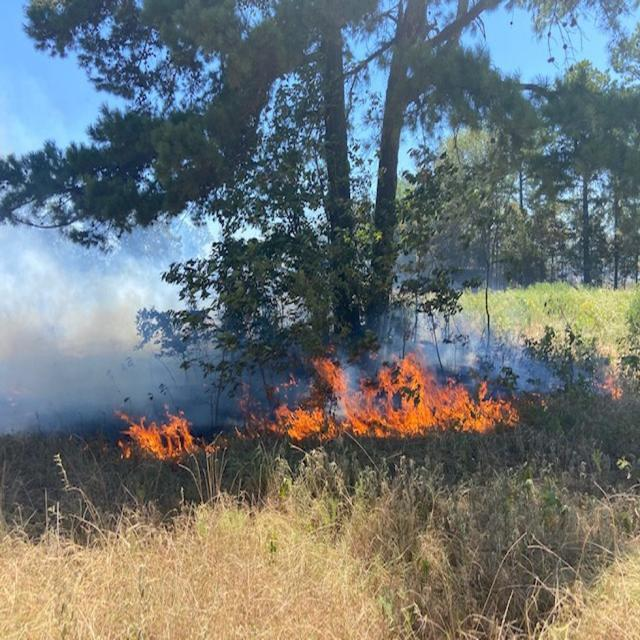Fire: (272, 348, 511, 456), (114, 400, 212, 468)
Smoke: (3, 248, 240, 421)
